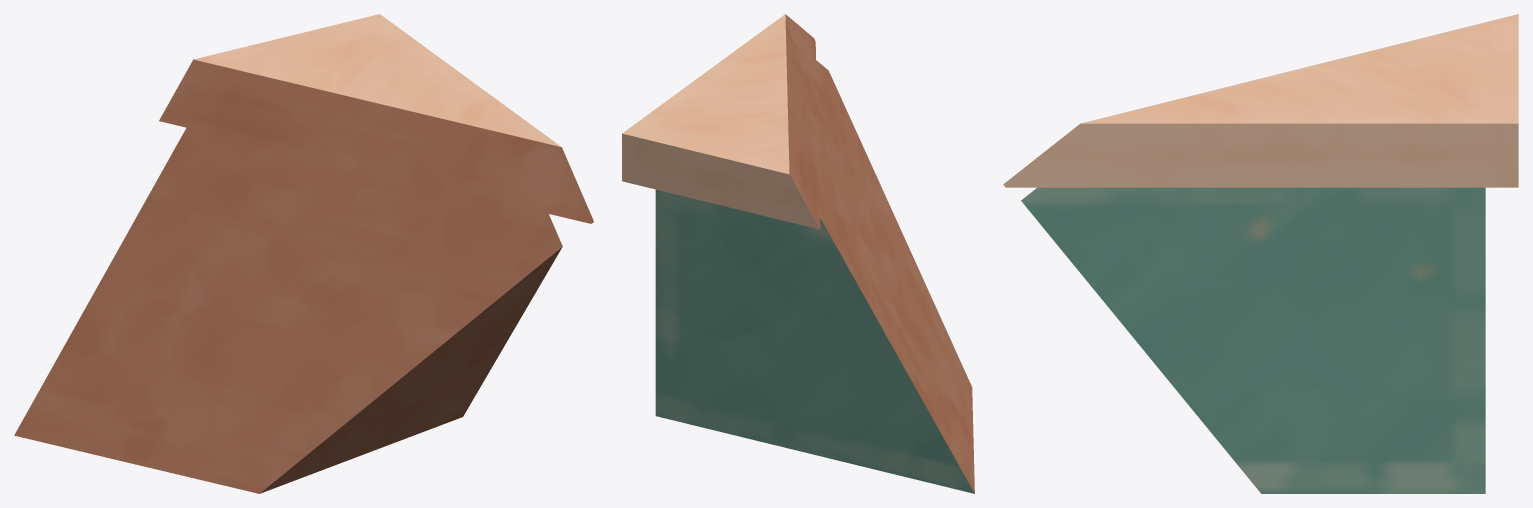
File: palm_bed_s00.fbx
3 views of the same model, side by side, from view 1: azimuth 30°, elevation 25°; view 2: azimuth 150°, elevation 25°; view 3: azimuth 270°, elevation 25° (orthographic). The views are drawn at different scales.
Parts seen in each view (by area): view 1: palm_bed_s00; view 2: palm_bed_s00; view 3: palm_bed_s00.
Boxes of the visible parts, x1,y1,x2,y2 form: palm_bed_s00: (14,14,593,493); palm_bed_s00: (622,14,974,493); palm_bed_s00: (1003,14,1518,493).
Bounding box in the file's own units: 2.24 × 1.8 × 2.19.
